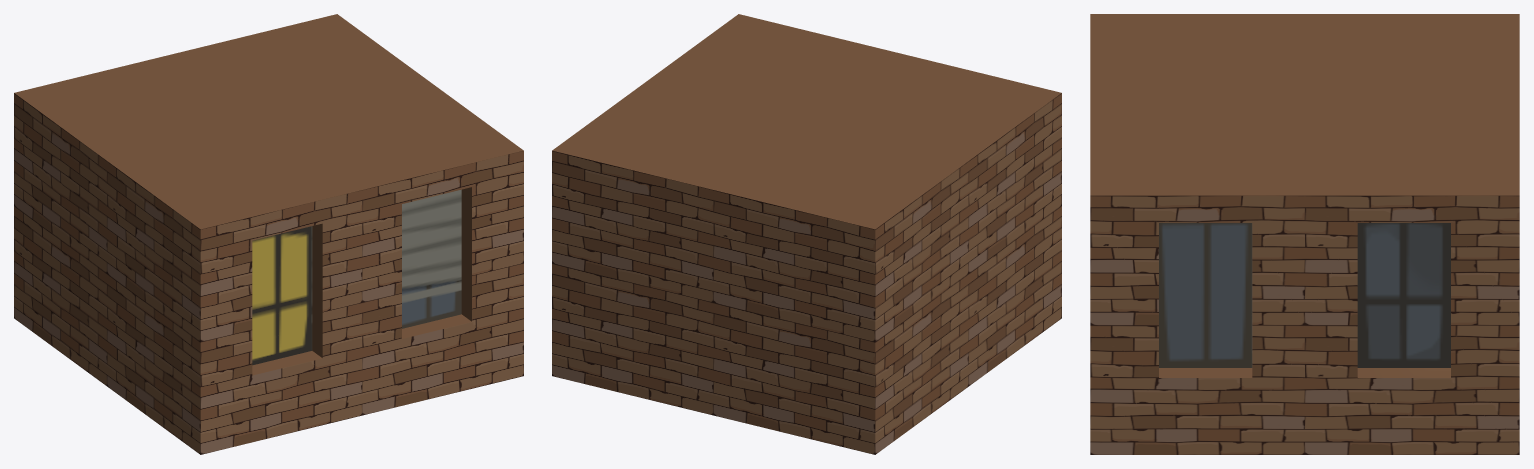
File: Bock_A3.fbx
3 renders of one model, left to right at view 1: azimuth 30°, elevation 25°; view 2: azimuth 150°, elevation 25°; view 3: azimuth 270°, elevation 25°, orthographic. The views are drawn at different scales.
Parts seen in each view (by area): view 1: Bock_A3; view 2: Bock_A3; view 3: Bock_A3.
Boxes of the visible parts, x1,y1,x2,y2 form: Bock_A3: [14, 14, 523, 454]; Bock_A3: [552, 14, 1061, 454]; Bock_A3: [1090, 14, 1519, 454].
Bounding box in the file's own units: 600 × 400 × 600.
